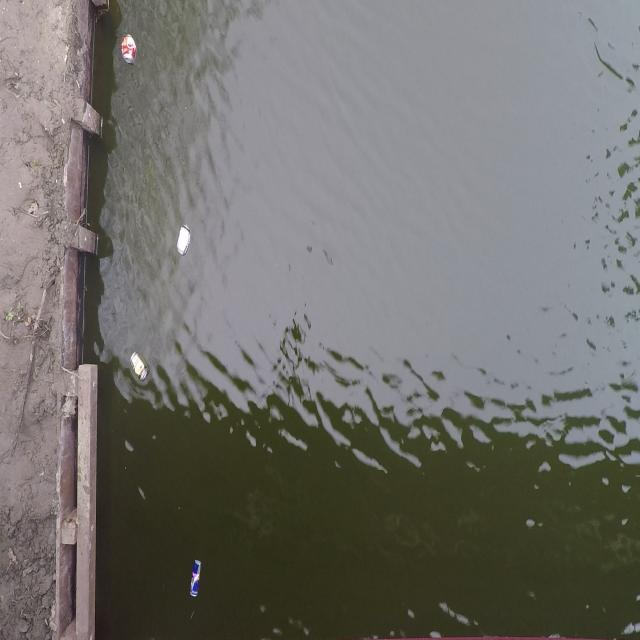Non plastique: (183, 550, 207, 608), (114, 26, 143, 72), (128, 345, 154, 388), (173, 214, 196, 258)
